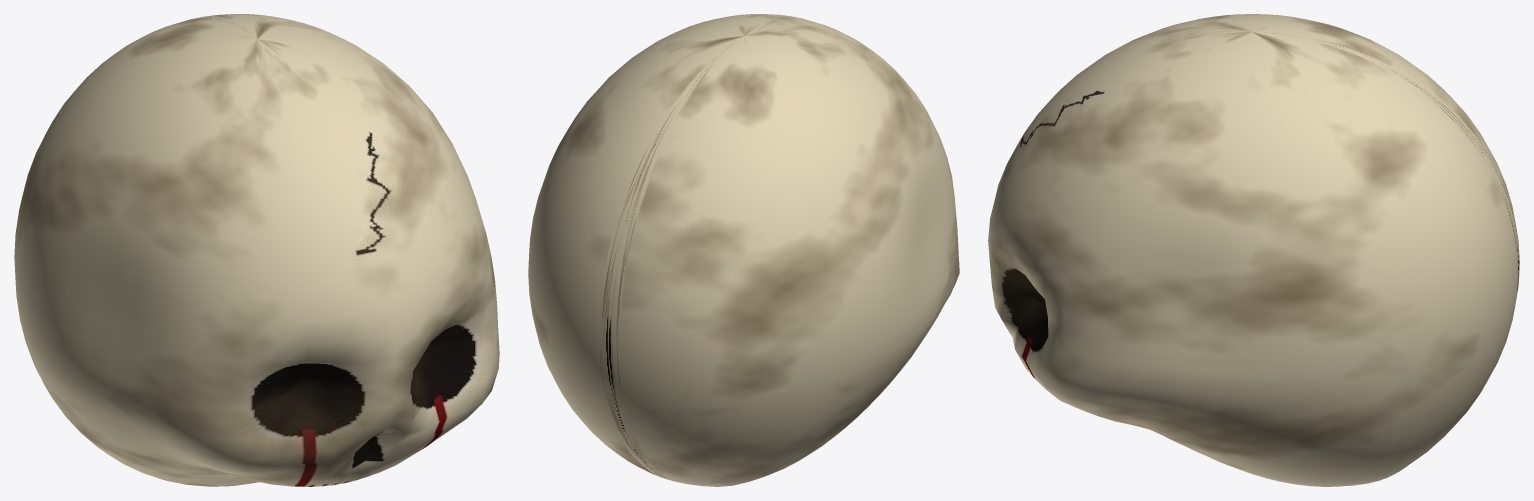
File: 頭蓋骨_skull.glb
3 views of the same model, side by side, from view 1: azimuth 30°, elevation 25°; view 2: azimuth 150°, elevation 25°; view 3: azimuth 270°, elevation 25° (orthographic). The views are drawn at different scales.
Parts seen in each view (by area): view 1: skull; view 2: skull; view 3: skull.
Boxes of the visible parts, x1,y1,x2,y2 form: skull: (14,14,499,486); skull: (528,14,959,486); skull: (988,14,1519,486).
Bounding box in the file's own units: 0.1319 × 0.1489 × 0.1639.
Materials: 1 (1 with a texture image).
